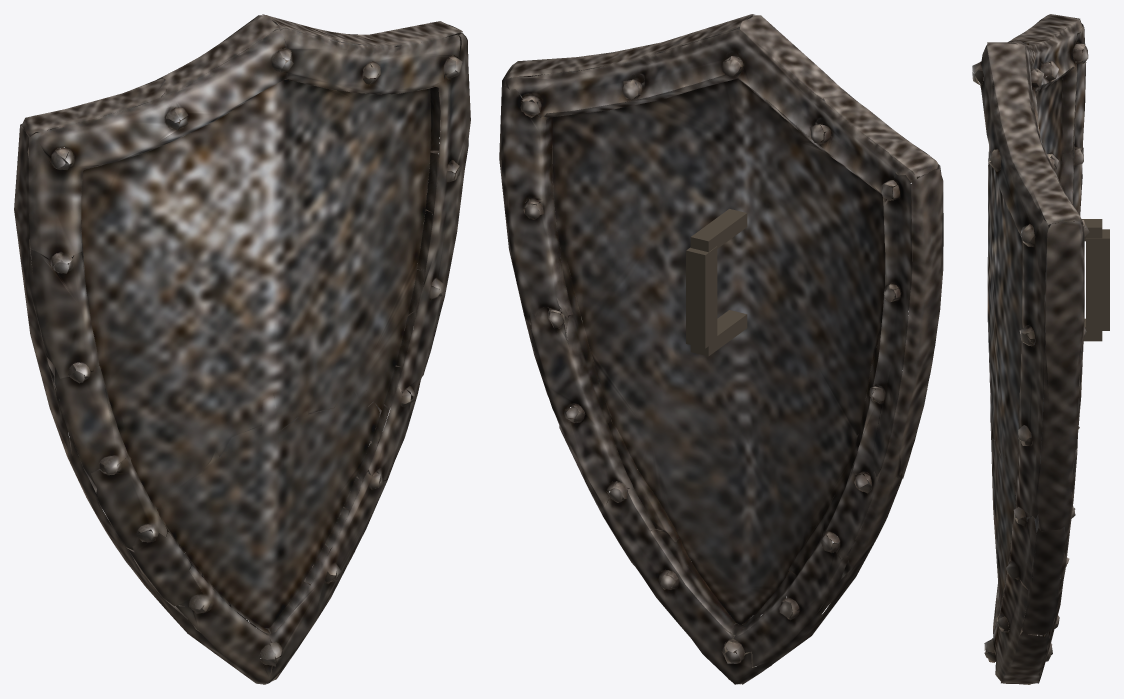
File: iron_kite.glb
3 views of the same model, side by side, from view 1: azimuth 30°, elevation 25°; view 2: azimuth 150°, elevation 25°; view 3: azimuth 270°, elevation 25° (orthographic). The views are drawn at different scales.
Visible parts, largest first — view 1: sprzet_iron_kite.001; view 2: sprzet_iron_kite.001, uchwyt_sprzet_iron_kite_chwyt.001, uchwyt_sprzet_iron_kite_wspornik_gora.001, uchwyt_sprzet_iron_kite_wspornik_dol.001; view 3: sprzet_iron_kite.001, uchwyt_sprzet_iron_kite_chwyt.001, uchwyt_sprzet_iron_kite_wspornik_gora.001.
Part boxes in pixels (x1,y1,x2,y2): sprzet_iron_kite.001: [14, 14, 470, 684]; sprzet_iron_kite.001: [499, 14, 943, 684]; uchwyt_sprzet_iron_kite_chwyt.001: [686, 246, 717, 348]; uchwyt_sprzet_iron_kite_wspornik_gora.001: [690, 209, 747, 252]; uchwyt_sprzet_iron_kite_wspornik_dol.001: [690, 310, 747, 356]; sprzet_iron_kite.001: [972, 14, 1089, 684]; uchwyt_sprzet_iron_kite_chwyt.001: [1086, 229, 1109, 330]; uchwyt_sprzet_iron_kite_wspornik_gora.001: [1081, 219, 1102, 241].
Bounding box in the file's own units: 0.5833 × 0.8425 × 0.1626.
Materials: 2 (1 with a texture image).
